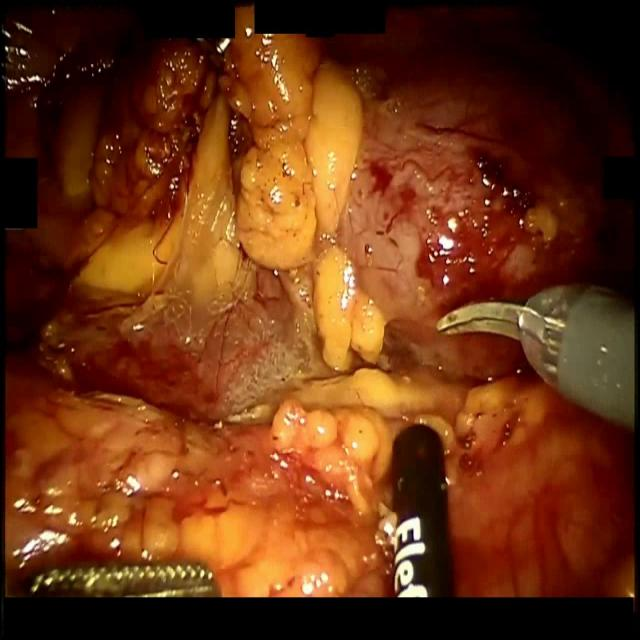surgical-area: (3, 4, 634, 598)
surgical-tool: (436, 280, 634, 431), (393, 422, 453, 597), (28, 562, 214, 598)
